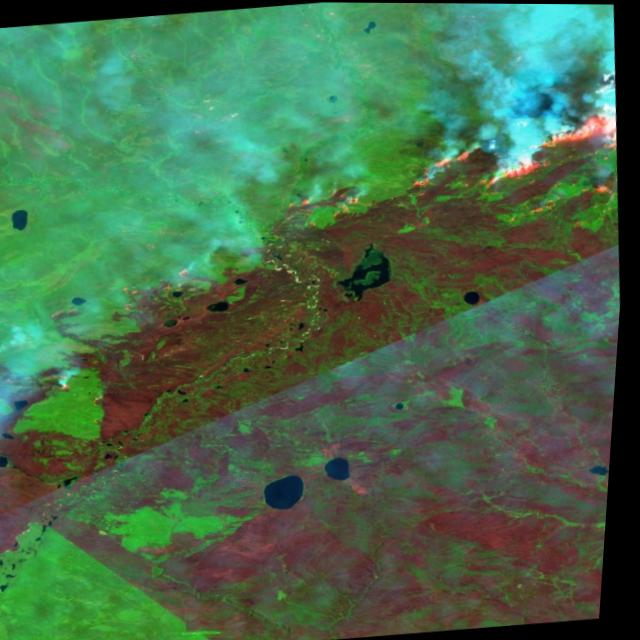fire: (0, 99, 635, 410)
